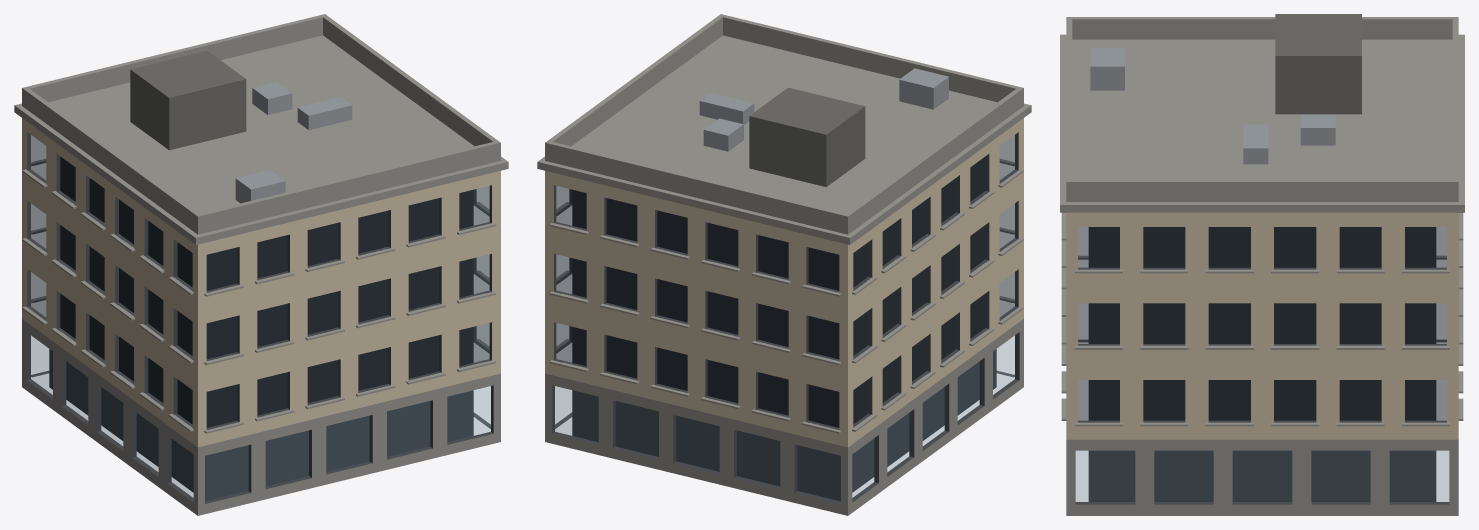
The model's file is office-3.glb.
3 views of the same model, side by side, from view 1: azimuth 30°, elevation 25°; view 2: azimuth 150°, elevation 25°; view 3: azimuth 270°, elevation 25° (orthographic). The views are drawn at different scales.
Visible parts, largest first — view 1: office-3; view 2: office-3; view 3: office-3.
Part boxes in pixels (x1,y1,x2,y2): office-3: [14, 14, 508, 515]; office-3: [537, 14, 1031, 515]; office-3: [1060, 14, 1464, 515].
Bounding box in the file's own units: 16.23 × 16.55 × 16.31.
